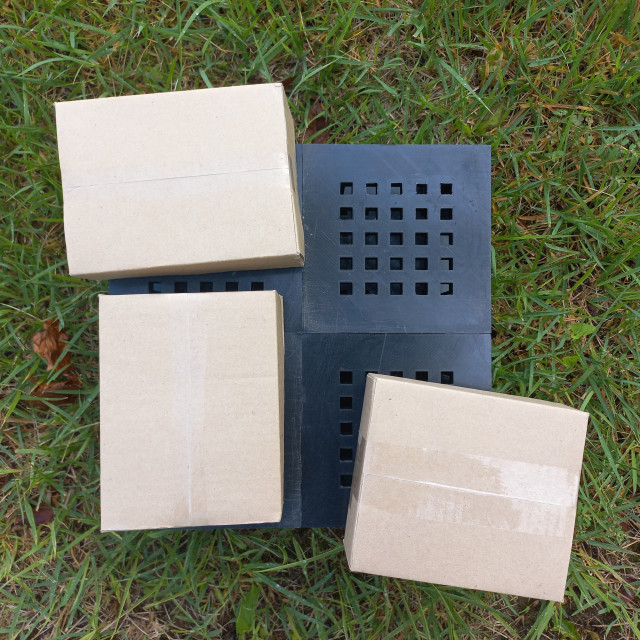box: (48, 31, 293, 268), (335, 355, 586, 561), (354, 110, 542, 351)
